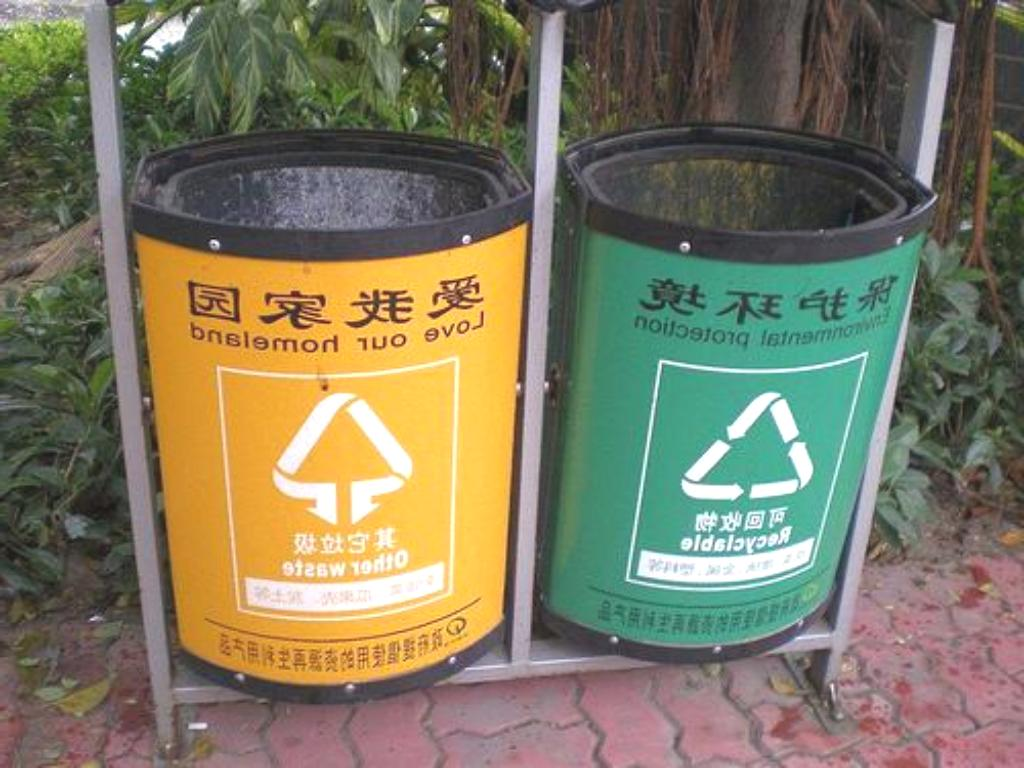dustbin: (96, 29, 954, 731), (113, 18, 573, 727), (517, 28, 951, 679)
